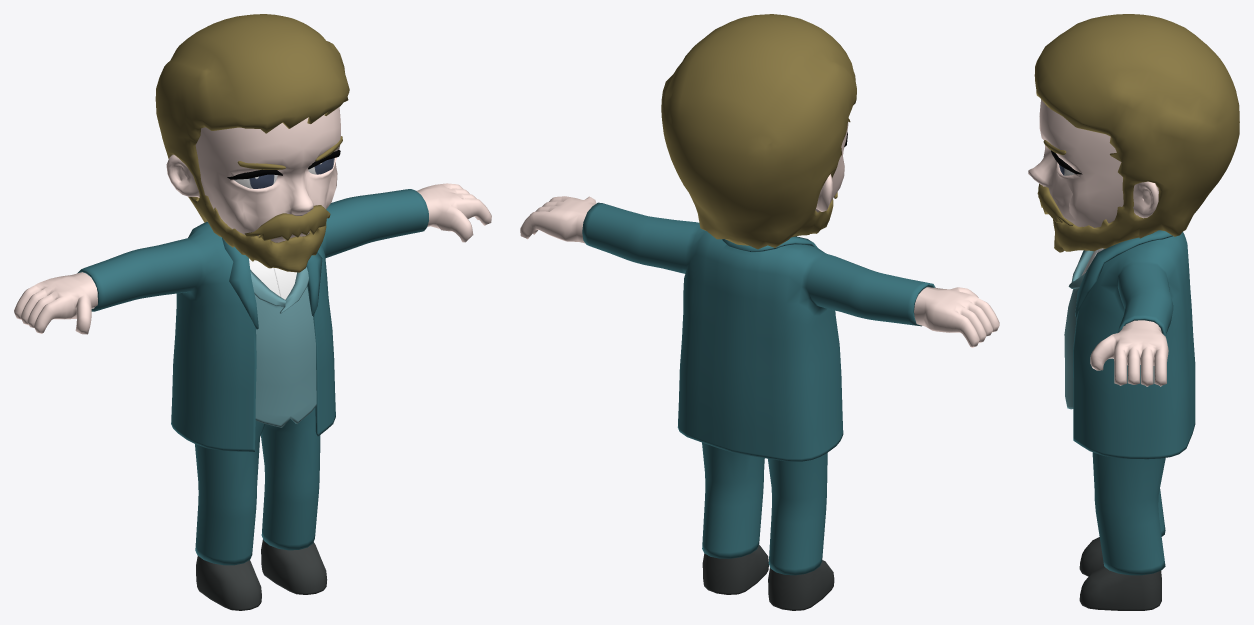
File: 고흐캐릭터.FBX
3 renders of one model, left to right at view 1: azimuth 30°, elevation 25°; view 2: azimuth 150°, elevation 25°; view 3: azimuth 270°, elevation 25°, orthographic.
Visible parts, largest first — view 1: Character; view 2: Character; view 3: Character.
Boxes of the visible parts, x1,y1,x2,y2 form: Character: (14,14,491,610); Character: (520,14,999,610); Character: (1028,14,1239,610).
Size of the model in its own units: 2.59 by 3.03 by 1.04.
Materials: 1 (1 with a texture image).
